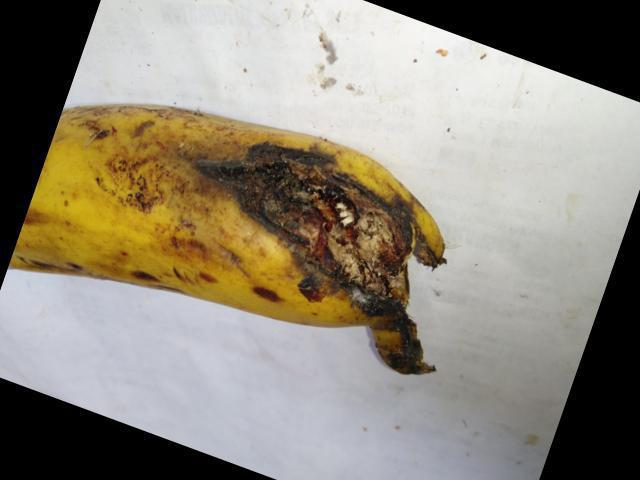rotten: (183, 131, 444, 402)
